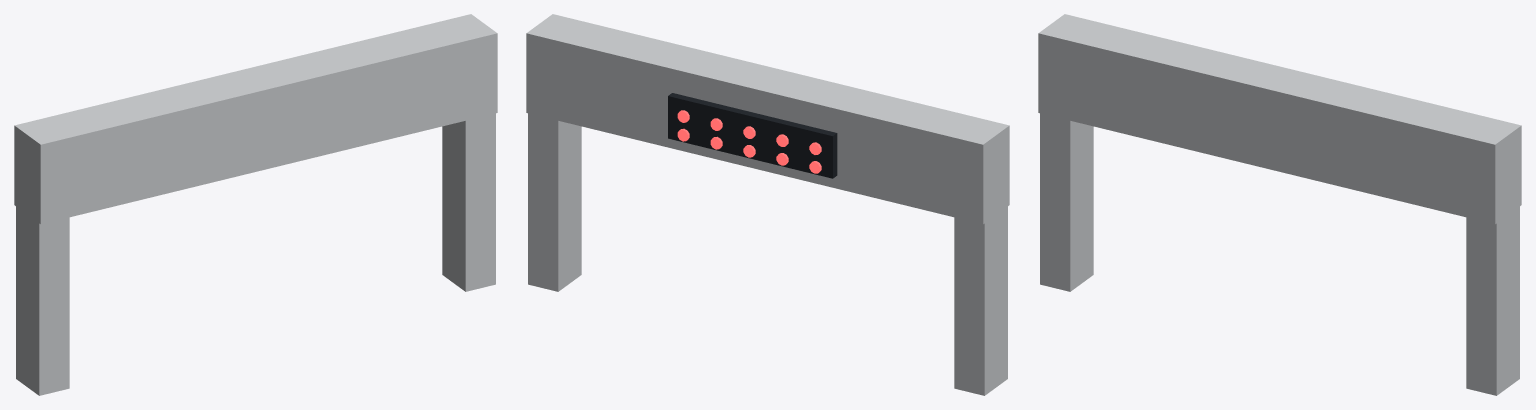
File: start-gantry.glb
The picture shows the model from 3 angles, left to right: view 1: azimuth 30°, elevation 25°; view 2: azimuth 150°, elevation 25°; view 3: azimuth 330°, elevation 25°; orthographic projection.
Visible parts, largest first — view 1: start-gantry; view 2: start-gantry; view 3: start-gantry.
Part boxes in pixels (x1,y1,x2,y2): start-gantry: [14, 14, 497, 395]; start-gantry: [526, 14, 1009, 395]; start-gantry: [1038, 14, 1521, 395].
Size of the model in its own units: 18 by 9.5 by 2.21.
